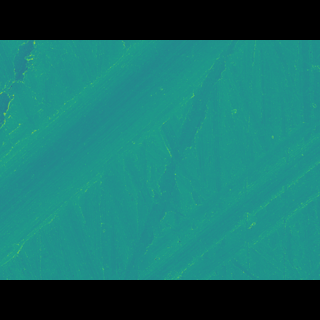Loch: (0, 69, 237, 242), (127, 129, 320, 251)
